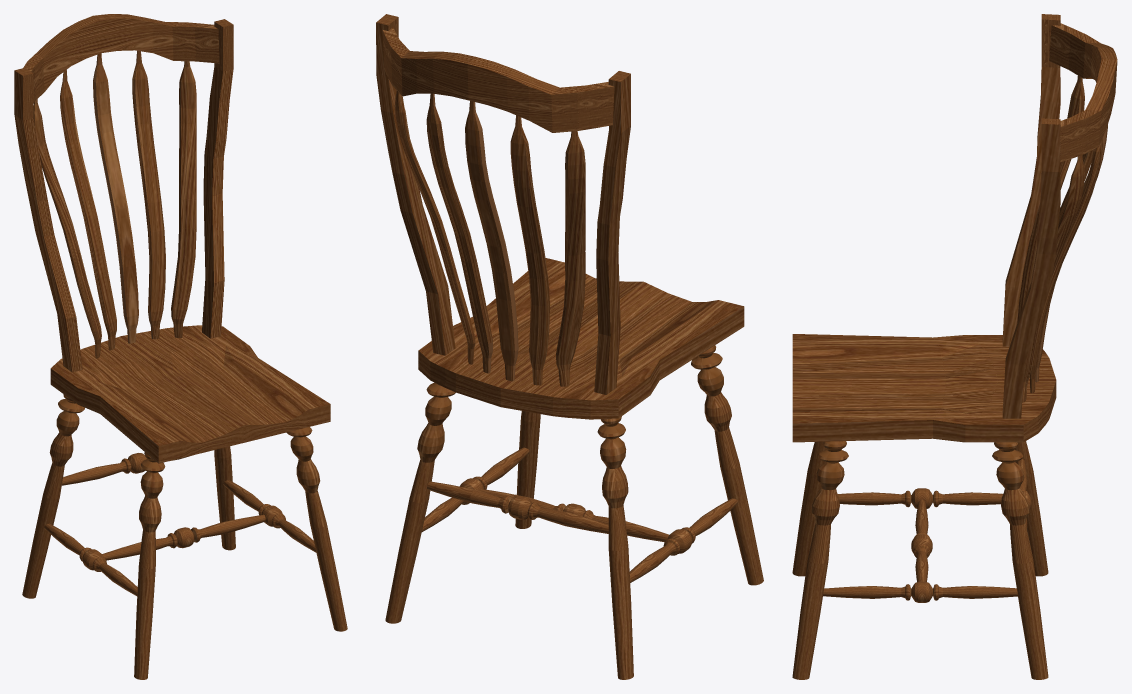
Rendered from sweethome3d-blendswap-cc-0-oak-chair.glb.
The picture shows the model from 3 angles, left to right: view 1: azimuth 30°, elevation 25°; view 2: azimuth 150°, elevation 25°; view 3: azimuth 270°, elevation 25°; orthographic projection. The views are drawn at different scales.
Parts seen in each view (by area): view 1: Plane.002, Cube.001_Cube.003, Circle.011_Circle.016, Circle.009_Circle.014, Circle.008_Circle.013, Circle.003_Circle.012, Circle.010_Circle.015; view 2: Plane.002, Cube.001_Cube.003, Circle.011_Circle.016, Circle.010_Circle.015, Circle.008_Circle.013, Circle.003_Circle.012, Circle.009_Circle.014; view 3: Plane.002, Circle.011_Circle.016, Cube.001_Cube.003, Circle.003_Circle.012, Circle.008_Circle.013, Circle.009_Circle.014.
Boxes of the visible parts, bbox=[...] form: Plane.002: bbox=[14, 14, 330, 463]; Cube.001_Cube.003: bbox=[33, 50, 196, 358]; Circle.011_Circle.016: bbox=[22, 394, 347, 679]; Circle.009_Circle.014: bbox=[102, 514, 265, 560]; Circle.008_Circle.013: bbox=[44, 523, 137, 596]; Circle.003_Circle.012: bbox=[223, 480, 316, 552]; Circle.010_Circle.015: bbox=[62, 453, 191, 485]; Plane.002: bbox=[376, 14, 744, 419]; Cube.001_Cube.003: bbox=[394, 90, 585, 386]; Circle.011_Circle.016: bbox=[385, 345, 763, 679]; Circle.010_Circle.015: bbox=[427, 481, 608, 533]; Circle.008_Circle.013: bbox=[629, 498, 738, 582]; Circle.003_Circle.012: bbox=[422, 447, 529, 531]; Circle.009_Circle.014: bbox=[480, 489, 669, 542]; Plane.002: bbox=[792, 14, 1117, 442]; Circle.011_Circle.016: bbox=[792, 441, 1048, 679]; Cube.001_Cube.003: bbox=[1017, 76, 1107, 402]; Circle.003_Circle.012: bbox=[823, 581, 1017, 602]; Circle.008_Circle.013: bbox=[838, 488, 1002, 508]; Circle.009_Circle.014: bbox=[911, 500, 932, 581].
Bounding box in the file's own units: 49.09 × 118 × 61.22.
Materials: 2 (2 with a texture image).
